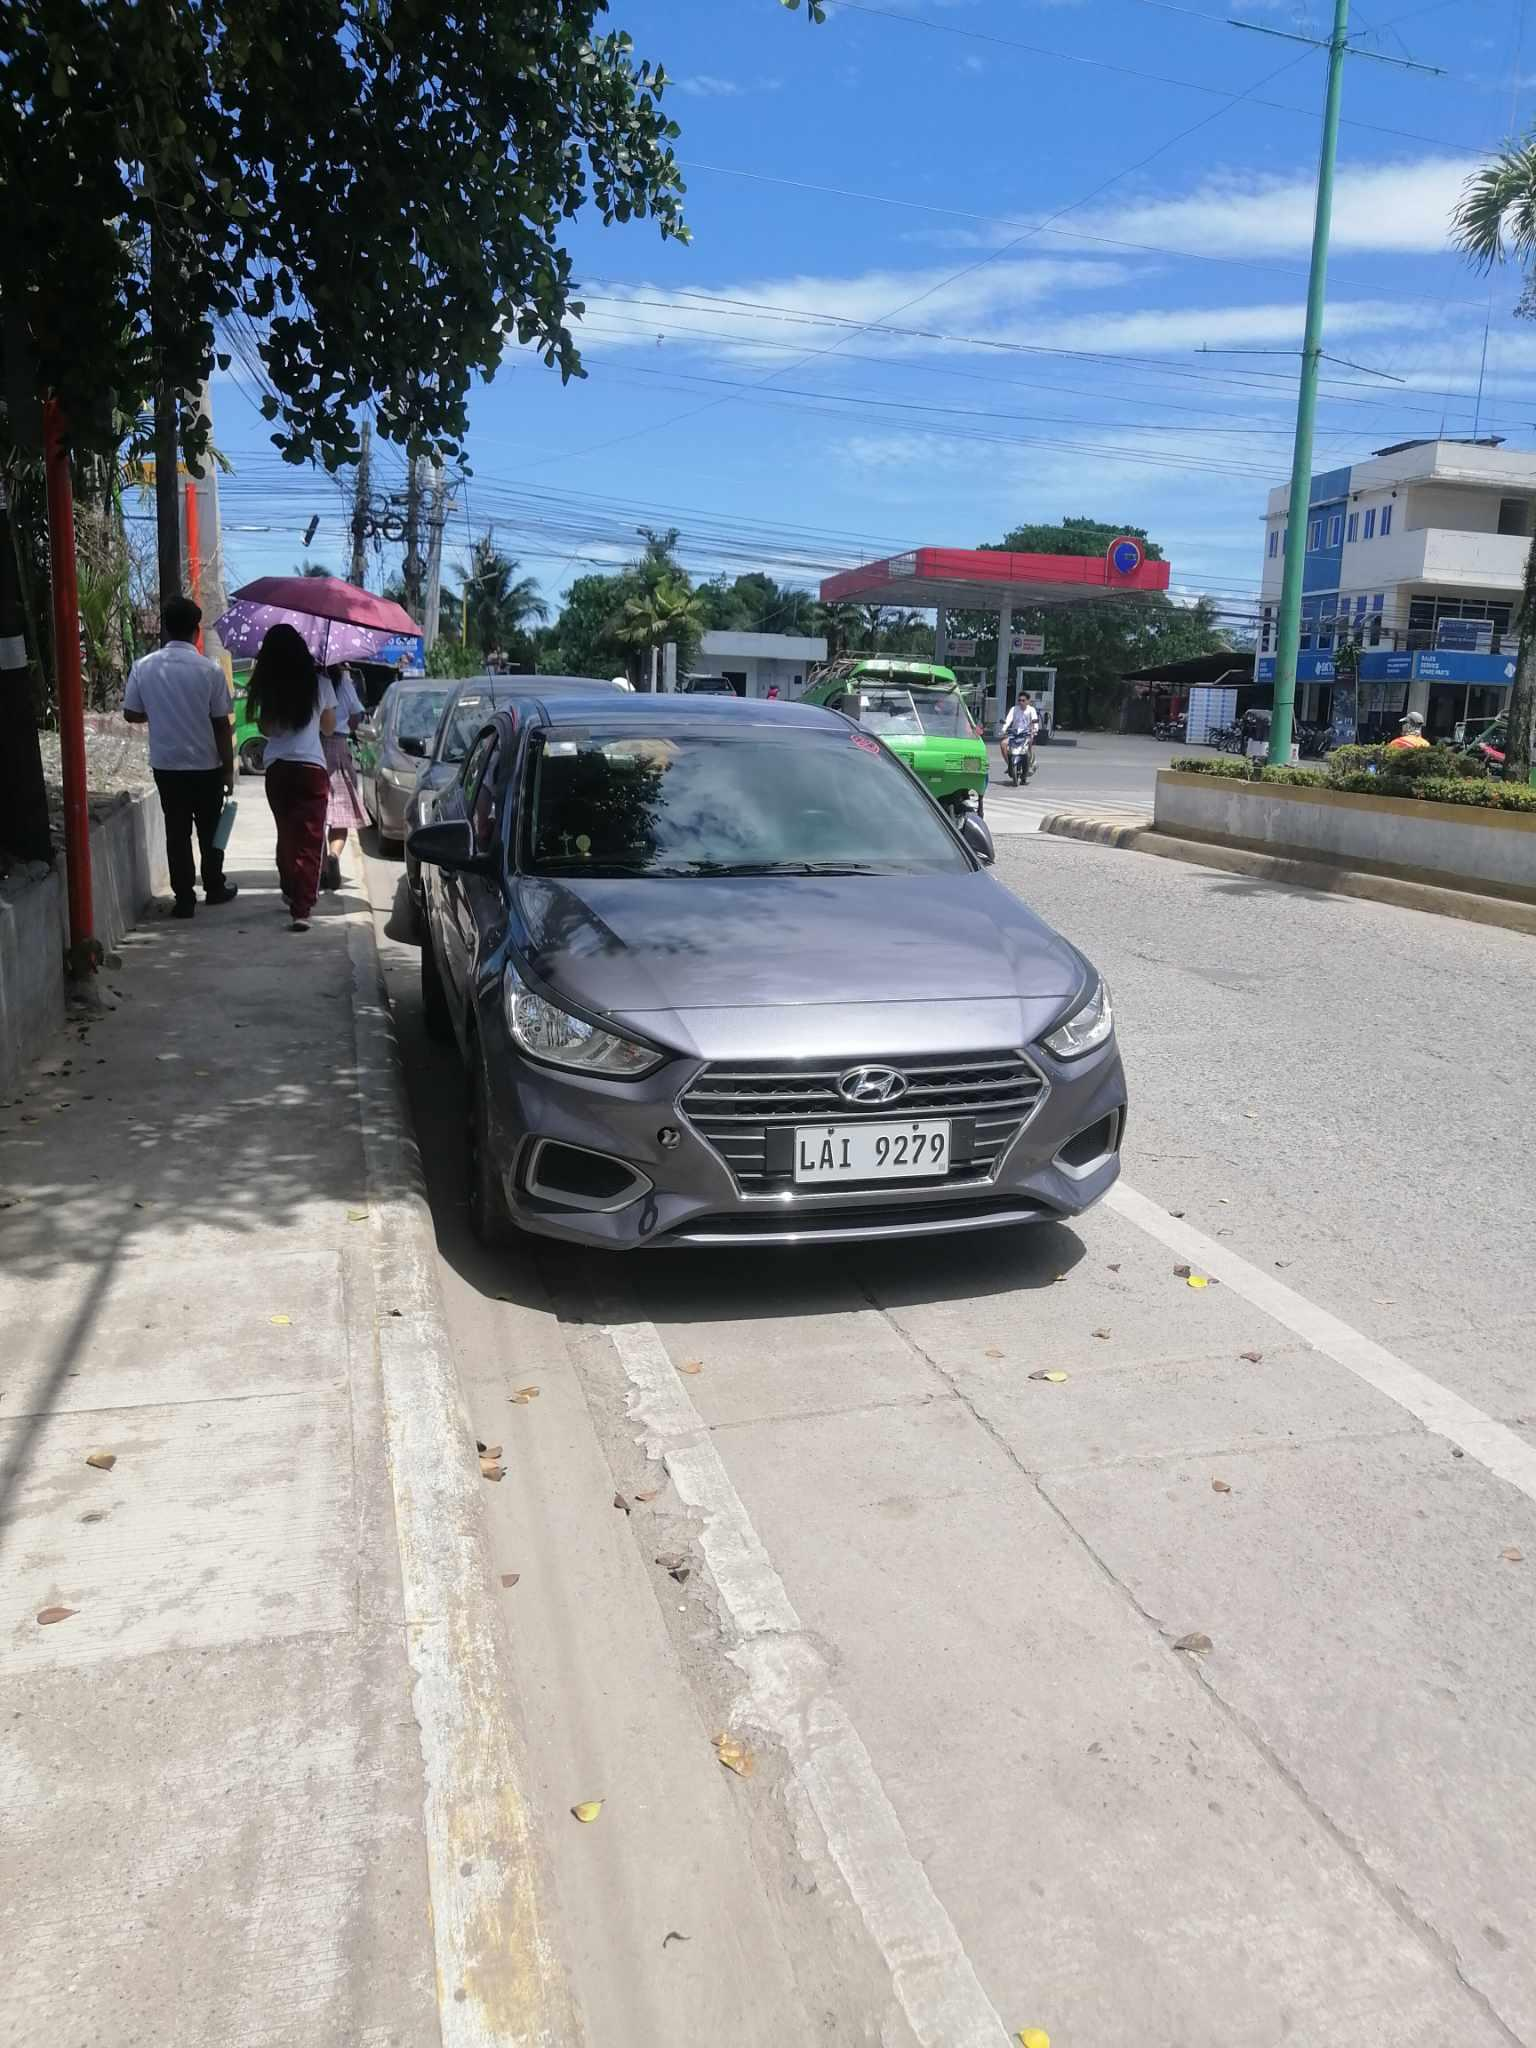license-plate: (790, 1116, 953, 1189)
